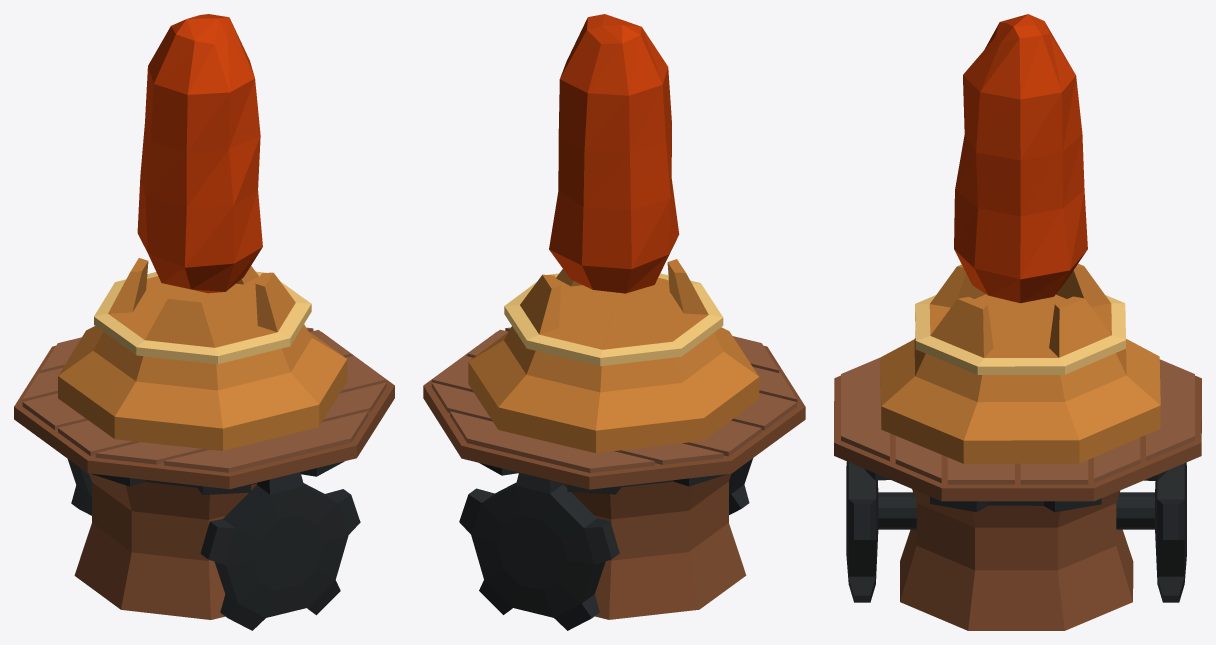
File: FireRate Level 1.FBX
The picture shows the model from 3 angles, left to right: view 1: azimuth 30°, elevation 25°; view 2: azimuth 150°, elevation 25°; view 3: azimuth 270°, elevation 25°; orthographic projection. The views are drawn at different scales.
Parts seen in each view (by area): view 1: MagicCrystal.001; view 2: MagicCrystal.001; view 3: MagicCrystal.001.
Boxes of the visible parts, x1,y1,x2,y2 form: MagicCrystal.001: [14, 14, 394, 630]; MagicCrystal.001: [423, 14, 805, 630]; MagicCrystal.001: [834, 14, 1201, 630].
Bounding box in the file's own units: 195 × 331 × 195.
Materials: 1 (1 with a texture image).
